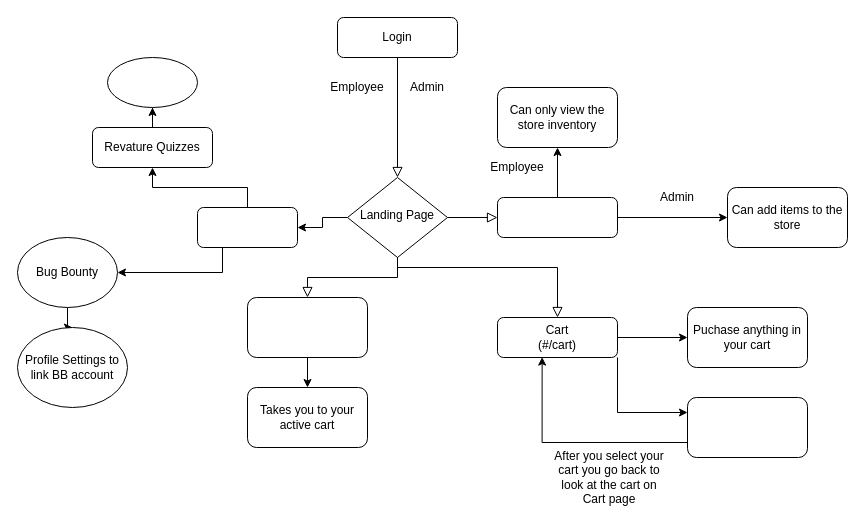
Some shapes in this 865 by 524 pixel diagram are drawn without their labels. Here are the shapes that lost their labels. From the top down, the box of each, then its label:
(106, 56, 198, 108): Click a specific quiz
(196, 206, 298, 248): Earn Points
(496, 196, 618, 238): Store (inventory/inventory-list)
(246, 296, 368, 358): Swag Shop
(686, 396, 808, 458): Save for Later/Add Cart (#/selectcart)
